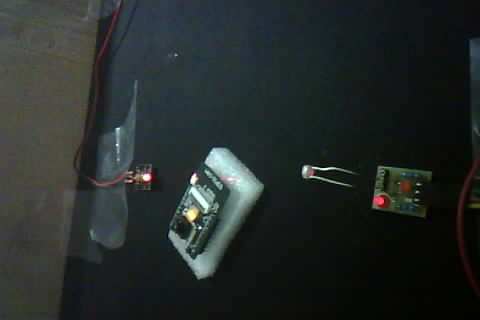esp32: (165, 147, 266, 280)
